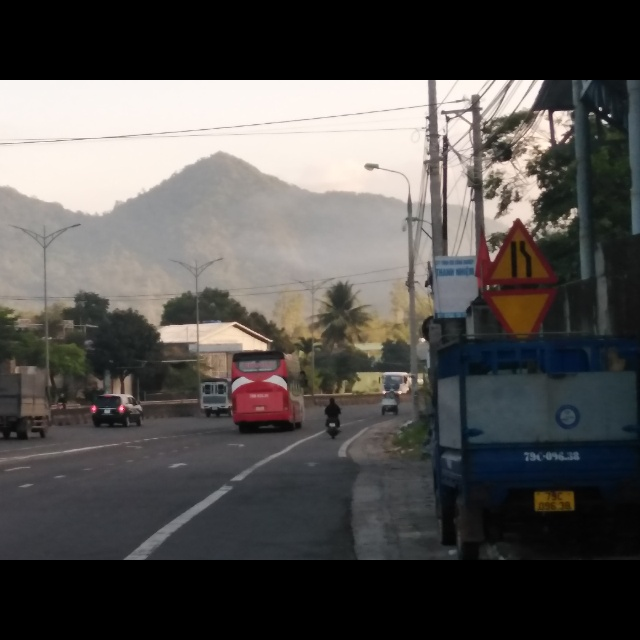Giao nhau với đường ưu tiên: (483, 289, 558, 339)
Đường bị hẹp bên phải: (482, 218, 557, 287)
